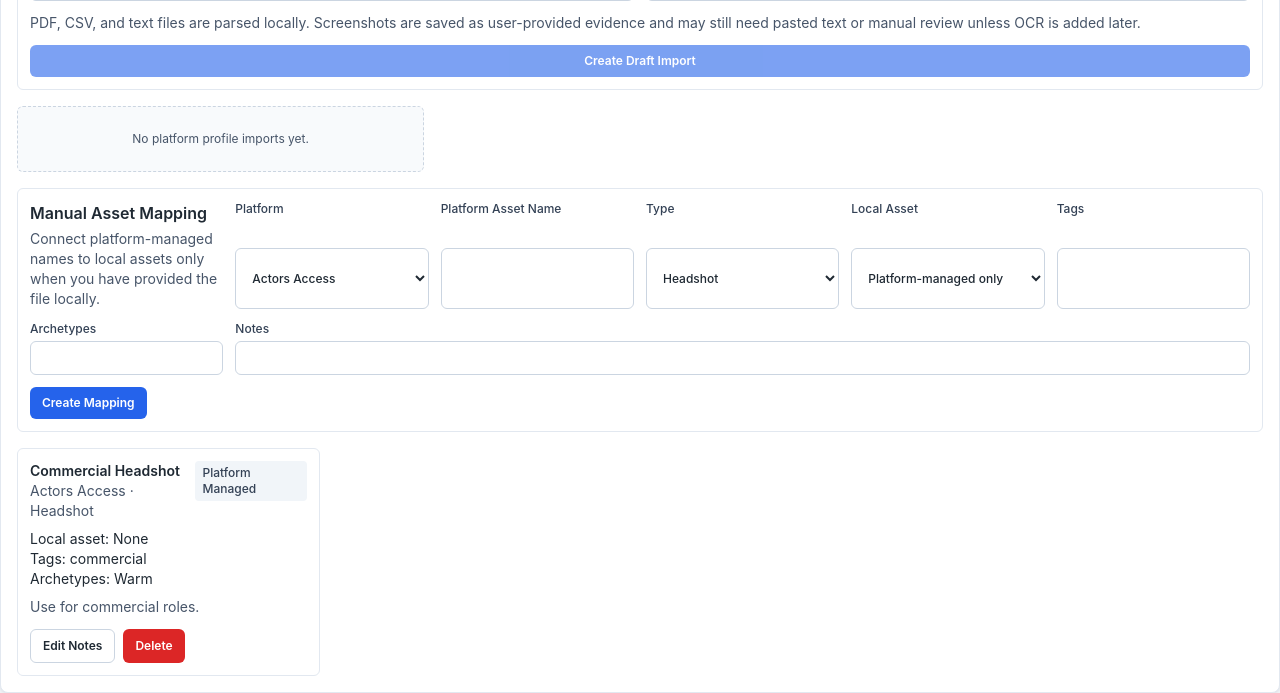
Test: Profile feature › edits platform mapping notes with an inline form instead of a browser prompt
The image size is (1280, 693).
(page scrolled)
Click the button "Edit Notes" at (73,646), box [30,629,115,663]
(page scrolled)
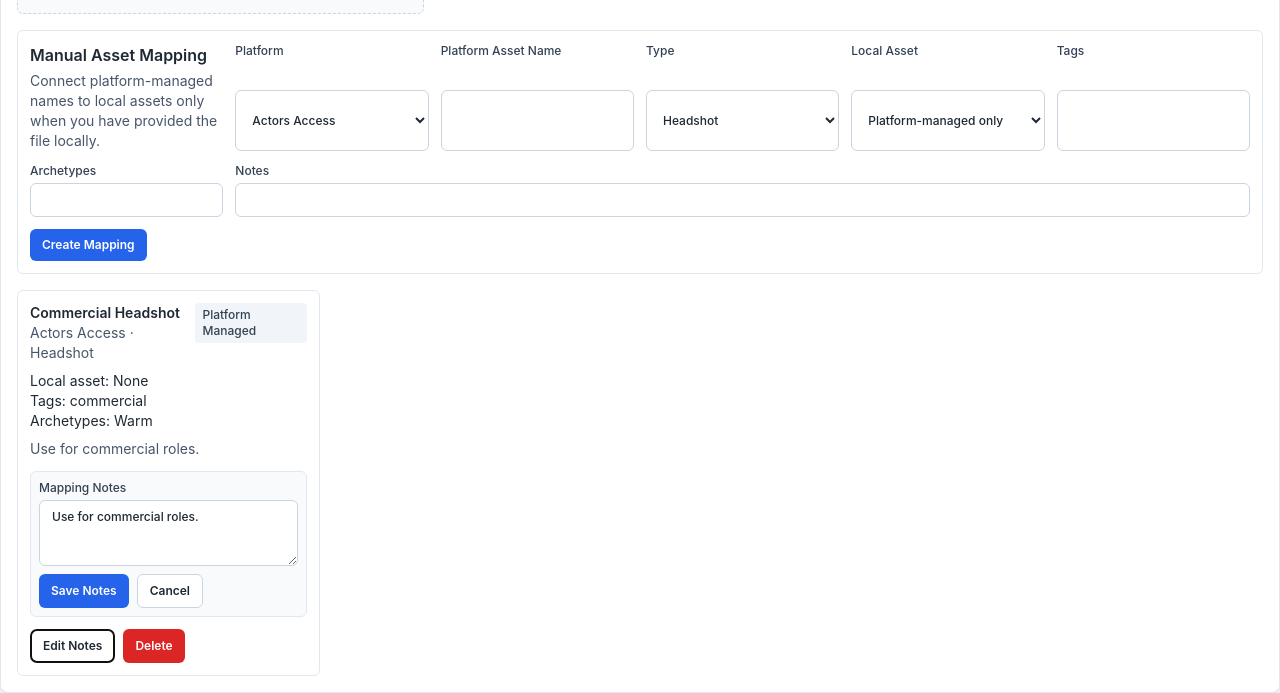
Check: the text box labelled "Mapping Notes" holds "Use for commercial roles.", box [39,500,298,566]
Check: the button "Save Notes" is shown, box [39,574,129,608]
